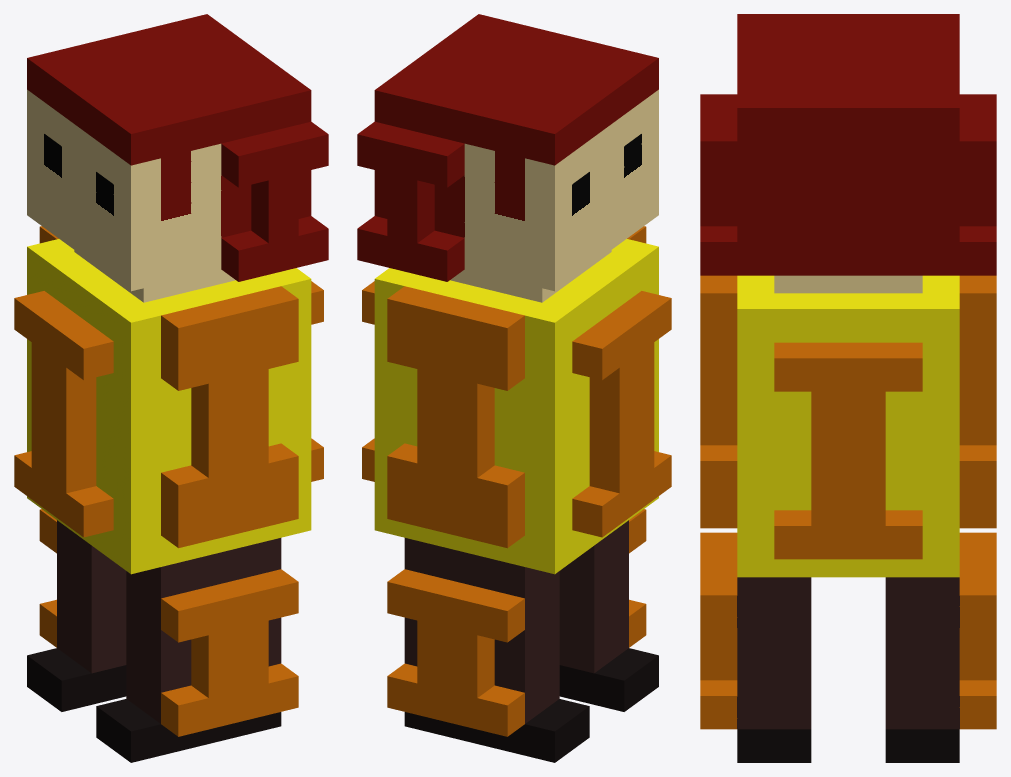
Rendered from Human_9.fbx.
3 views of the same model, side by side, from view 1: azimuth 30°, elevation 25°; view 2: azimuth 150°, elevation 25°; view 3: azimuth 270°, elevation 25° (orthographic). The views are drawn at different scales.
Parts seen in each view (by area): view 1: Human_9; view 2: Human_9; view 3: Human_9.
Part boxes in pixels (x1,y1,x2,y2): Human_9: [14, 14, 328, 762]; Human_9: [357, 14, 671, 762]; Human_9: [700, 14, 996, 762].
Bounding box in the file's own units: 8 × 20 × 8.
Materials: 1 (1 with a texture image).
